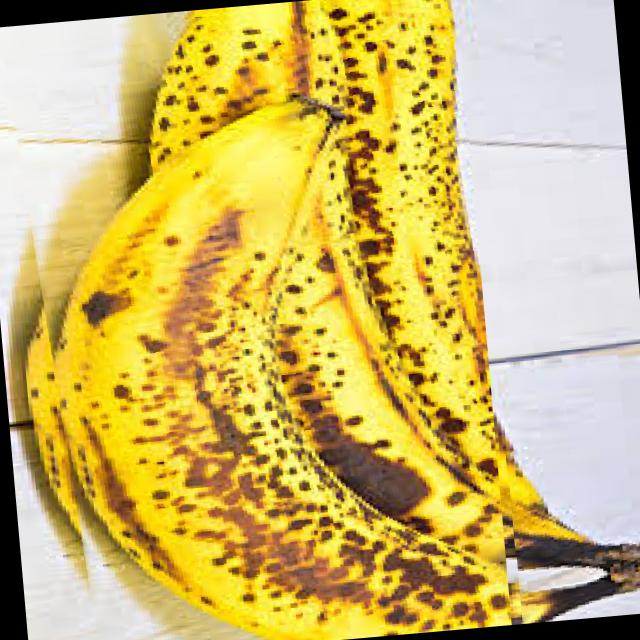Organic: (0, 0, 510, 640), (503, 427, 640, 623)
